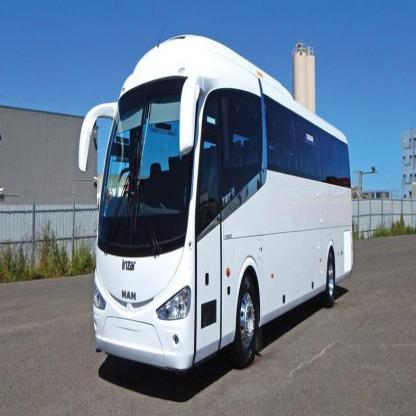Bus: (83, 42, 350, 372)
